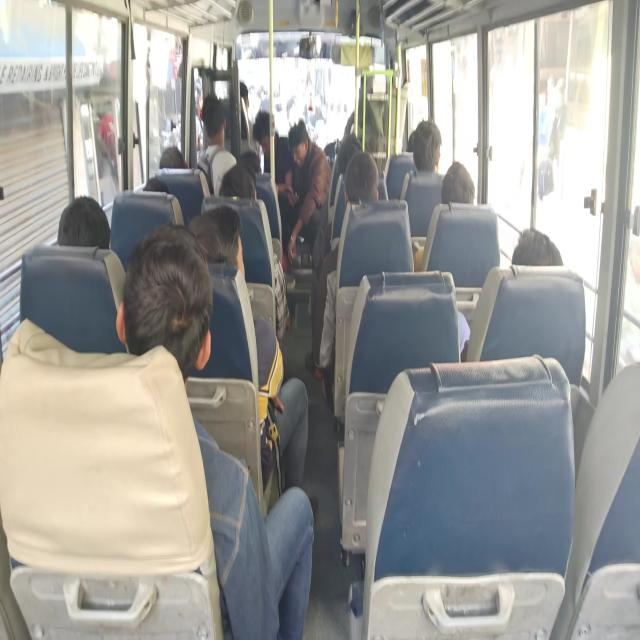person: (115, 223, 315, 638), (191, 204, 310, 501), (306, 150, 380, 378), (458, 227, 563, 361), (218, 162, 290, 347), (281, 120, 331, 266), (413, 160, 475, 272), (196, 93, 236, 196), (252, 109, 294, 200), (57, 195, 111, 249), (511, 227, 563, 267), (344, 151, 379, 204), (411, 119, 441, 172), (440, 161, 475, 204), (159, 146, 188, 169)
